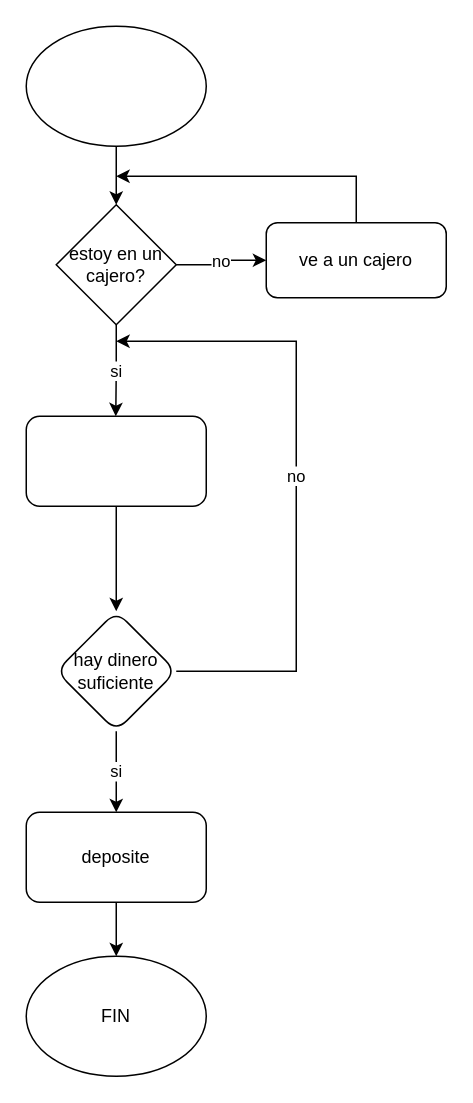
Some shapes in this 473 by 1103 pixel diagram are drawn without their labels. Each missing label, with the box of its shape:
inicio: (25, 25, 206, 146)
solicitar dinero: (25, 415, 206, 506)
